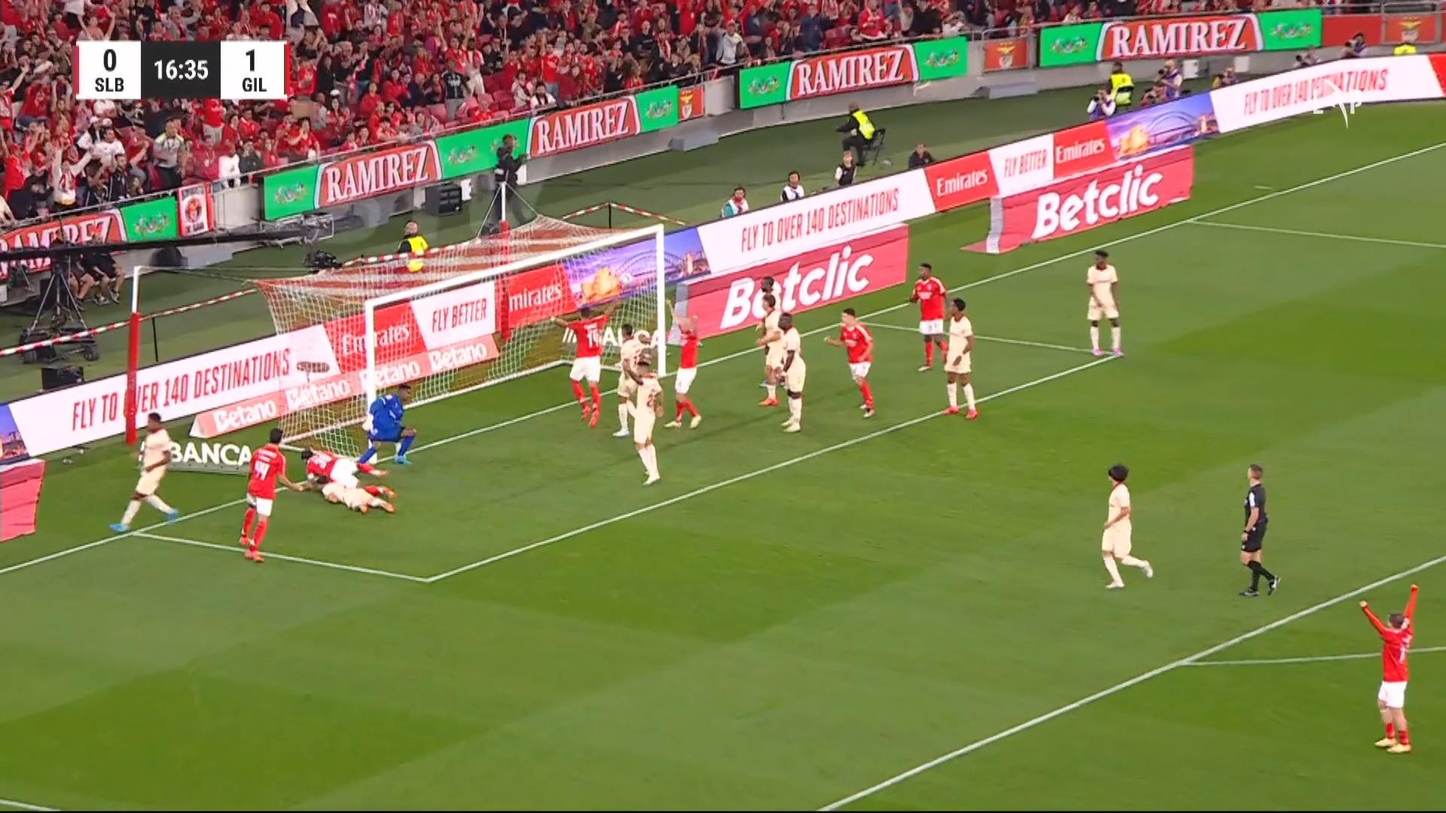goalkeeper: (355, 382, 417, 472)
player: (1358, 583, 1420, 754), (238, 427, 307, 562), (108, 411, 180, 533), (551, 299, 618, 428), (298, 446, 396, 515), (1100, 463, 1153, 589), (823, 306, 876, 419), (662, 297, 703, 429), (625, 354, 664, 486), (940, 297, 979, 419), (907, 262, 948, 372), (1085, 248, 1124, 357), (773, 312, 805, 433), (754, 293, 785, 406), (611, 321, 641, 437), (320, 482, 397, 515)
referee: (1237, 463, 1280, 597)
